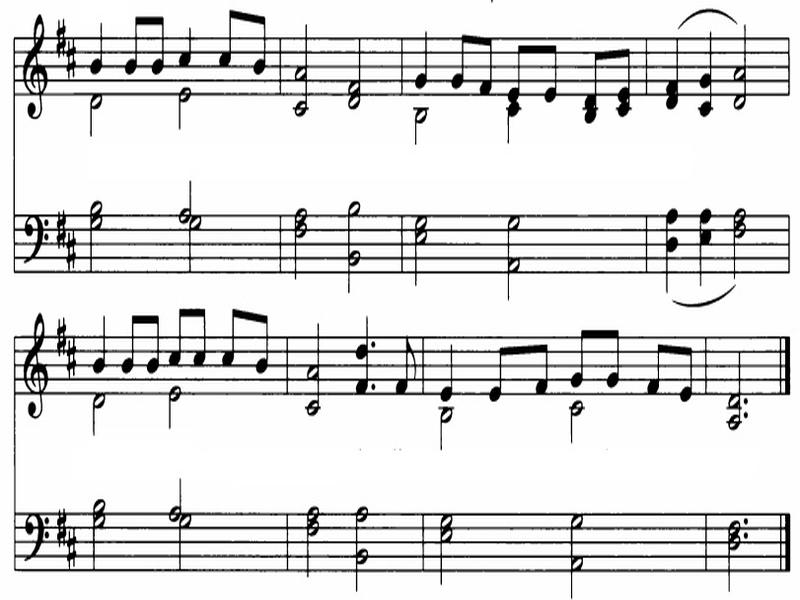B: (293, 491, 330, 584), (345, 506, 382, 596), (81, 487, 117, 578), (78, 198, 116, 284), (554, 509, 589, 600), (288, 16, 318, 119), (496, 204, 524, 312), (302, 320, 329, 425), (337, 194, 365, 290), (716, 344, 745, 433), (406, 207, 436, 292), (342, 31, 374, 110), (429, 510, 457, 600), (733, 19, 758, 114), (728, 202, 758, 279), (428, 404, 464, 464), (287, 199, 310, 284), (178, 509, 203, 578), (164, 82, 201, 128), (187, 216, 215, 274), (157, 384, 188, 434), (717, 518, 737, 594), (562, 551, 594, 595), (291, 22, 314, 80), (81, 94, 110, 138), (351, 544, 378, 590), (406, 103, 437, 142), (502, 253, 526, 303), (344, 250, 365, 305), (347, 504, 373, 548), (565, 505, 592, 547), (565, 399, 586, 449), (167, 473, 187, 523), (166, 181, 189, 222), (87, 394, 108, 438), (506, 214, 527, 247), (342, 202, 363, 234), (293, 88, 312, 117)
C: (578, 46, 607, 123), (611, 44, 641, 117), (525, 330, 556, 400), (220, 299, 249, 366), (568, 320, 597, 387), (215, 4, 244, 70), (252, 304, 279, 374), (247, 9, 273, 78), (165, 301, 193, 364), (116, 306, 141, 374), (677, 338, 702, 405), (641, 334, 667, 397), (189, 300, 212, 371), (121, 12, 146, 77), (488, 341, 514, 403), (537, 40, 562, 104), (148, 9, 170, 76), (504, 39, 528, 100), (474, 31, 497, 94), (604, 321, 624, 389), (143, 305, 162, 374), (455, 31, 474, 89)
CF: (17, 204, 51, 274), (18, 508, 52, 576)
CS: (12, 4, 51, 124), (16, 309, 53, 430)
N: (696, 201, 721, 292), (658, 33, 685, 116), (697, 31, 722, 120), (347, 309, 373, 394), (87, 308, 116, 376), (437, 333, 465, 401), (661, 201, 681, 293), (88, 6, 111, 77), (412, 25, 434, 89), (500, 104, 523, 144), (181, 24, 199, 67)
P: (740, 397, 753, 412), (741, 519, 757, 529), (740, 411, 753, 423), (368, 383, 380, 394), (369, 336, 377, 352), (742, 533, 750, 543)
SOS: (47, 16, 66, 55), (61, 342, 77, 383), (64, 236, 79, 274), (52, 211, 65, 248), (63, 41, 77, 74), (65, 533, 77, 567), (55, 512, 67, 544), (53, 317, 65, 347)
